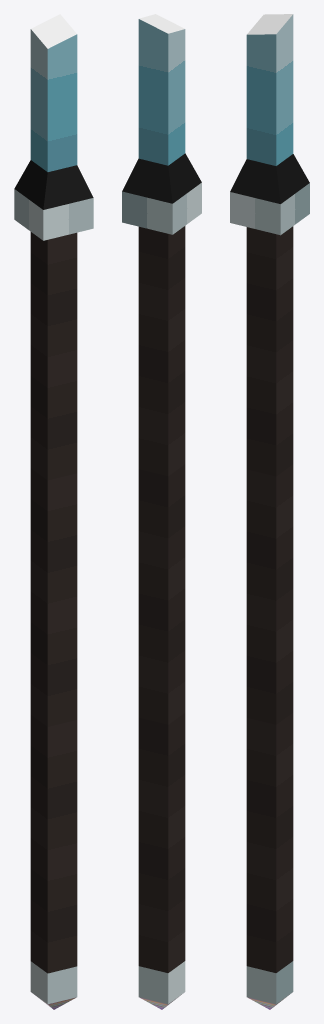
The model's file is staff_ice.obj.
3 views of the same model, side by side, from view 1: azimuth 30°, elevation 25°; view 2: azimuth 150°, elevation 25°; view 3: azimuth 330°, elevation 25° (orthographic).
Parts seen in each view (by area): view 1: STAFF_VAR19_Cube.006; view 2: STAFF_VAR19_Cube.006; view 3: STAFF_VAR19_Cube.006.
Part boxes in pixels (<box>): STAFF_VAR19_Cube.006: <box>14,14,93,1009</box>; STAFF_VAR19_Cube.006: <box>122,14,201,1009</box>; STAFF_VAR19_Cube.006: <box>230,14,309,1009</box>.
Bounding box in the file's own units: 0.1067 × 2 × 0.1067.
